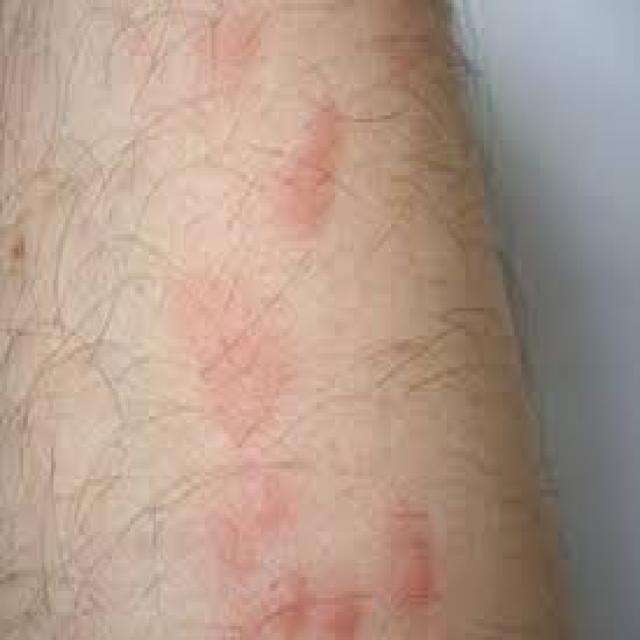kan emici bocekler: (198, 278, 286, 438), (245, 569, 364, 640), (282, 95, 343, 230), (211, 469, 298, 562), (381, 509, 444, 621)
